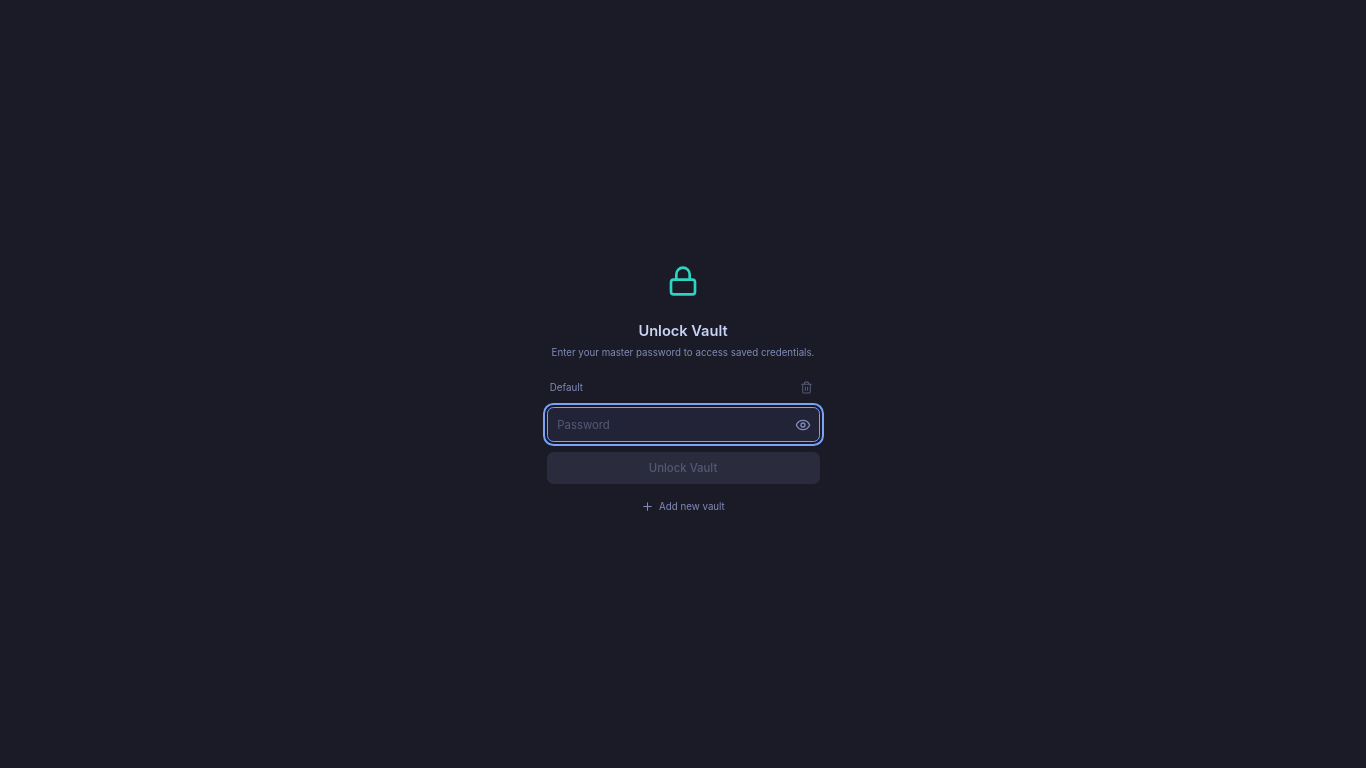
Scenario: VaultUnlock › shows an error when unlock fails and requires a non-empty password
The image size is (1366, 768).
Expected: the heading "Unlock Vault" is shown, [638,320,728,342]
In the password field with placeholder "Password": (683, 425) [546,407,820,442], type "wrong-password"
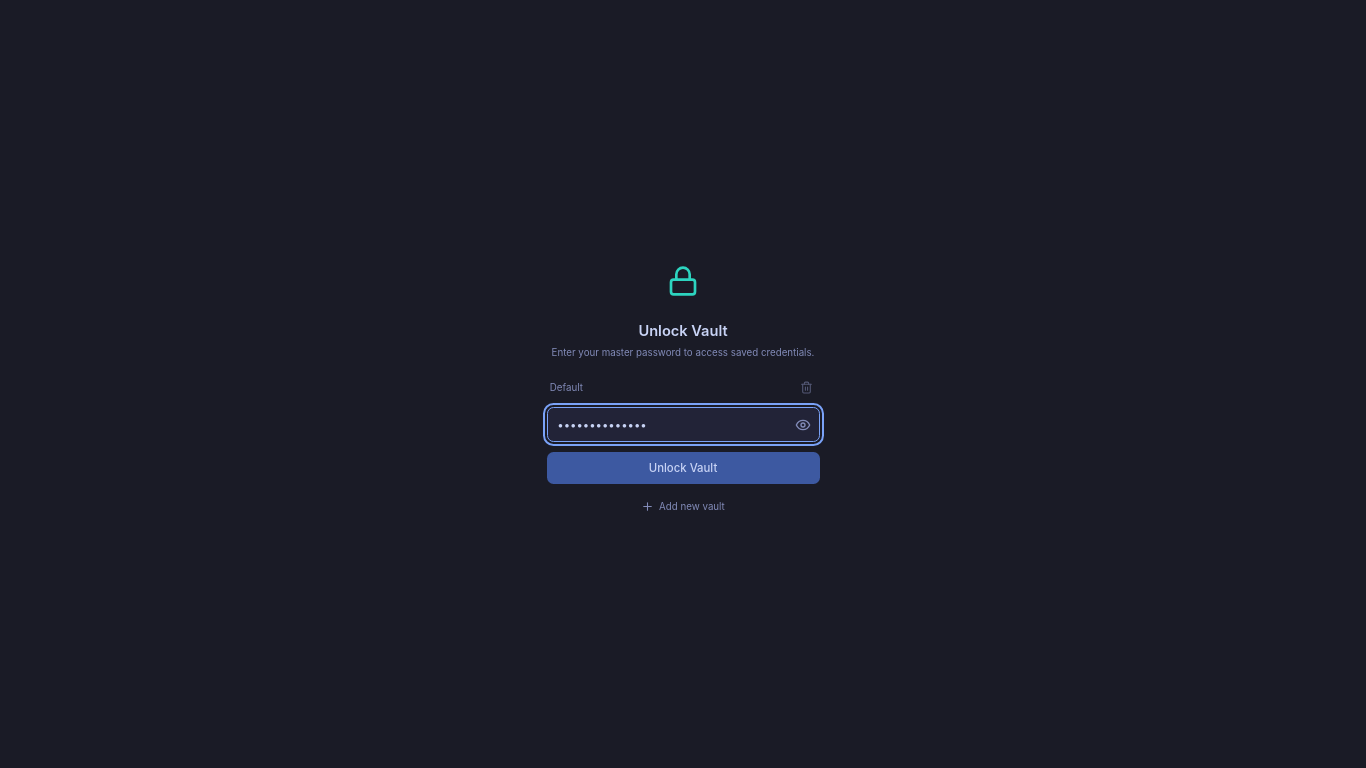
Click the button "Unlock Vault": (683, 468) [546,452,820,484]
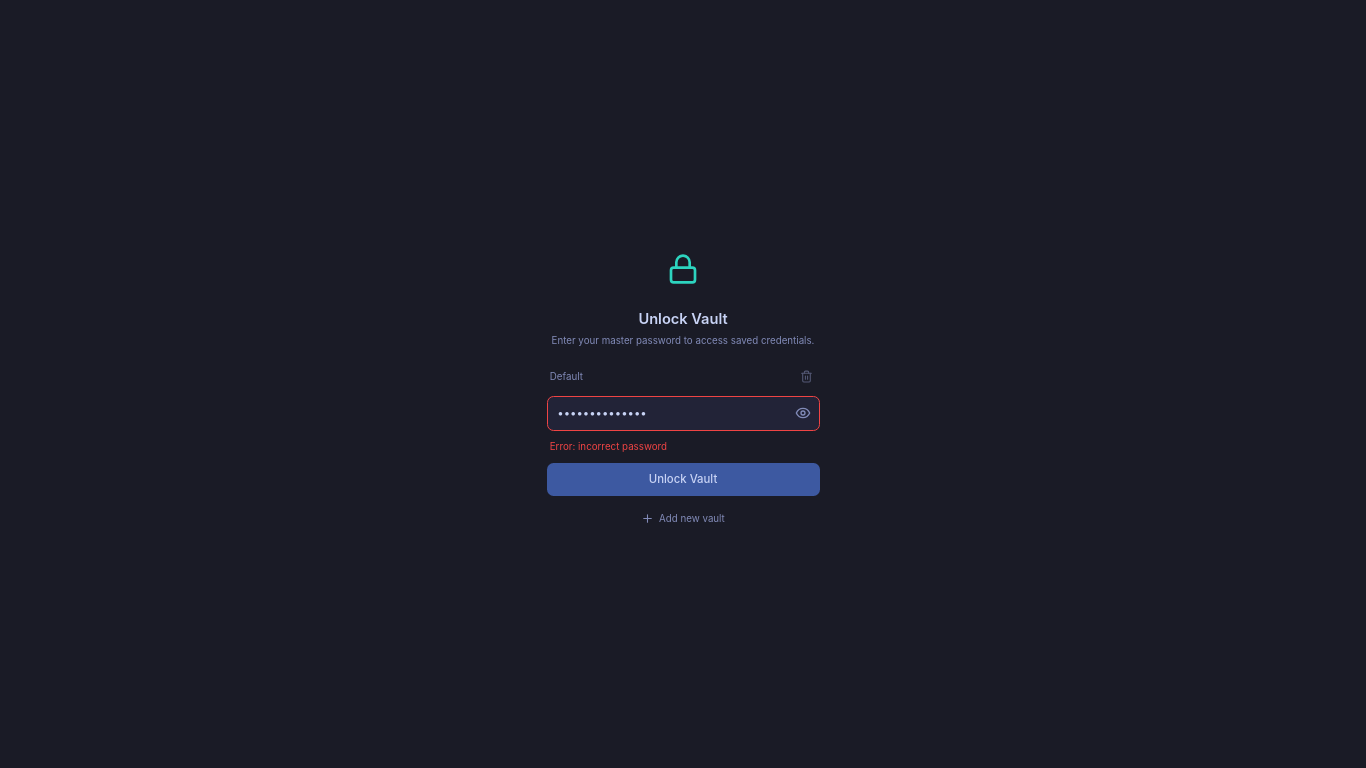
Expected: the text "Error: incorrect password" is shown, [550,441,667,452]
